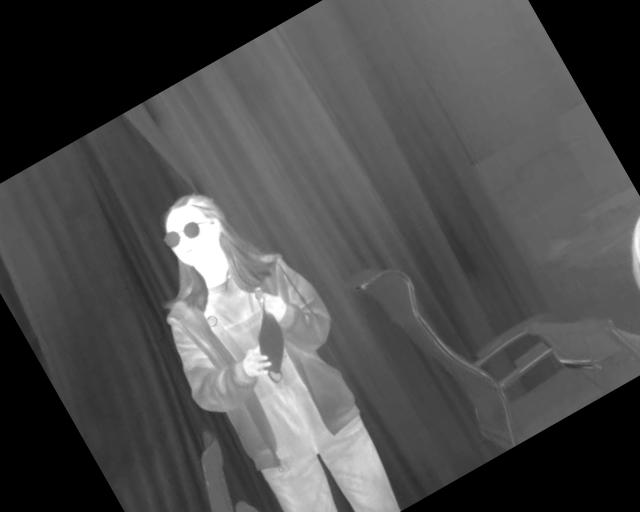face: (279, 109, 390, 248)
